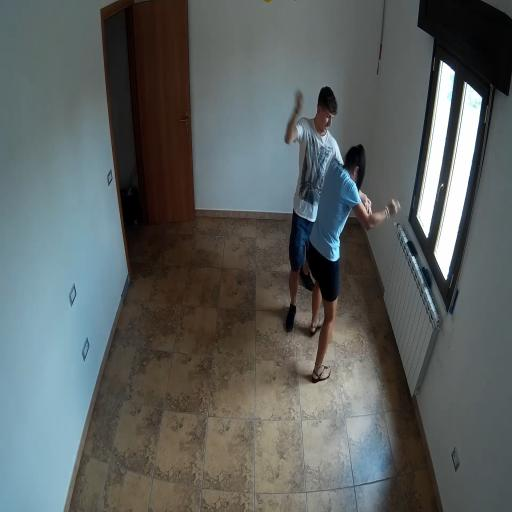violencia: (272, 68, 403, 390)
